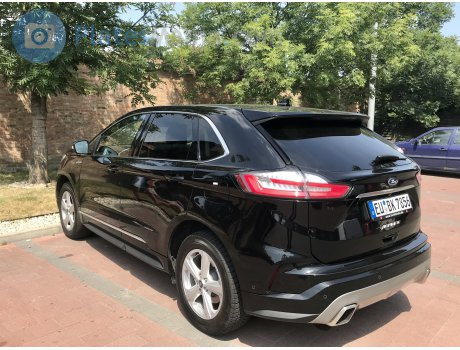License Plates: (376, 196, 406, 204)
